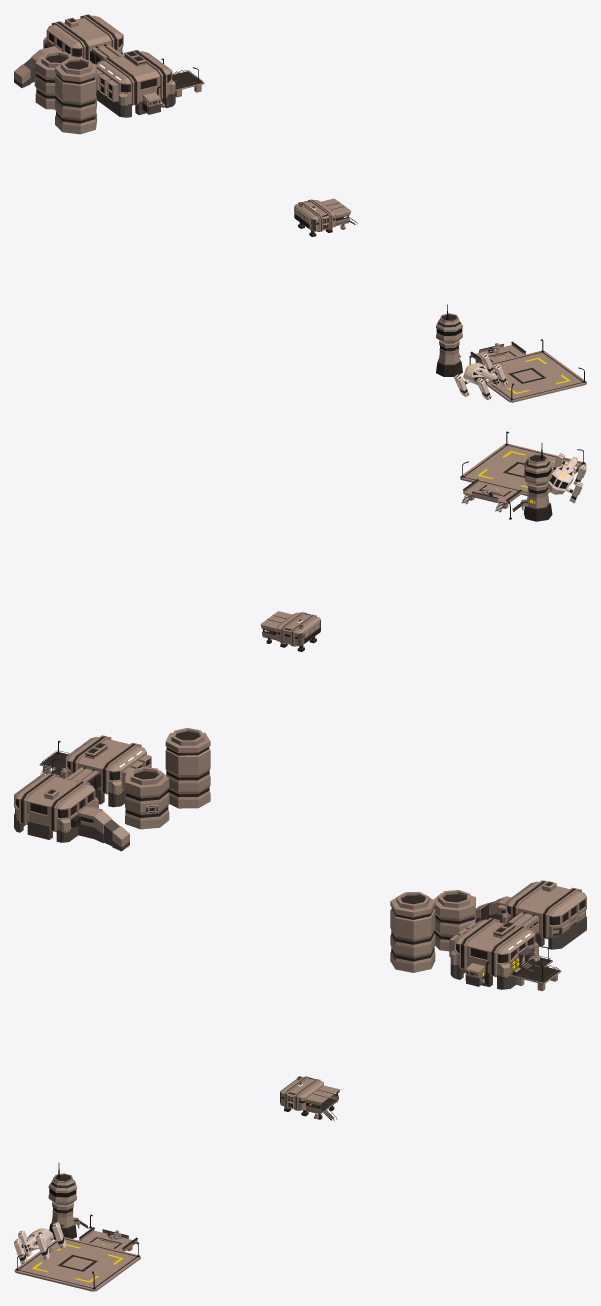
The model's file is stylized_low_poly_sci-fi_buildings-c.glb.
3 views of the same model, one above another, from view 1: azimuth 30°, elevation 25°; view 2: azimuth 150°, elevation 25°; view 3: azimuth 330°, elevation 25° (orthographic). The views are drawn at different scales.
Visible parts, largest first — view 1: Cube.005_0, Cube.018_0, Cube.014_0, Cube.005_1, Cube_0, Cube.022_0, Cube.005_3, Cube.013_0, Cylinder_0, Cube.018_2, Cylinder_1, Cube.014_1; view 2: Cube.005_0, Cube.014_0, Cube.018_0, Cube.013_0, Cube.005_1, Cube.005_3, Cube_0, Cylinder_0, Cube.022_0, Cylinder_1, Cube.014_1, Cube.018_2; view 3: Cube.005_0, Cube.018_0, Cube.014_0, Cube.005_1, Cube.005_3, Cube.013_0, Cube_0, Cube.022_0, Cylinder_0, Cube.018_2, Cube.014_1, Cube_1.
Boxes of the visible parts, box(x1,y1,x2,y2) form: Cube.005_0: box(14, 14, 204, 114); Cube.018_0: box(470, 343, 586, 402); Cube.014_0: box(55, 58, 96, 134); Cube.005_1: box(44, 15, 203, 112); Cube_0: box(295, 198, 350, 231); Cube.022_0: box(454, 352, 508, 400); Cube.005_3: box(14, 52, 175, 117); Cube.013_0: box(34, 51, 75, 109); Cylinder_0: box(436, 313, 462, 364); Cube.018_2: box(470, 341, 582, 399); Cylinder_1: box(436, 314, 462, 376); Cube.014_1: box(56, 61, 95, 123); Cube.005_0: box(14, 735, 151, 847); Cube.014_0: box(165, 728, 210, 808); Cube.018_0: box(460, 443, 586, 508); Cube.013_0: box(125, 767, 169, 829); Cube.005_1: box(15, 736, 149, 830); Cube.005_3: box(14, 789, 129, 851); Cube_0: box(260, 611, 320, 646); Cylinder_0: box(520, 454, 552, 510); Cube.022_0: box(548, 453, 586, 503); Cylinder_1: box(521, 455, 552, 521); Cube.014_1: box(166, 731, 209, 796); Cube.018_2: box(463, 445, 582, 500); Cube.005_0: box(449, 880, 586, 991); Cube.018_0: box(14, 1228, 140, 1291); Cube.014_0: box(390, 892, 435, 972); Cube.005_1: box(456, 881, 585, 984); Cube.005_3: box(450, 901, 586, 989); Cube.013_0: box(434, 890, 475, 951); Cube_0: box(280, 1076, 340, 1114); Cube.022_0: box(14, 1222, 65, 1264); Cylinder_0: box(48, 1173, 80, 1228); Cube.018_2: box(18, 1227, 137, 1288); Cube.014_1: box(391, 895, 434, 961); Cube_1: box(280, 1076, 338, 1119).
Bounding box in the file's own units: 46.68 × 24.02 × 271.
